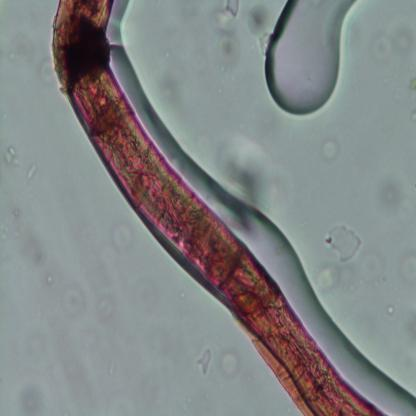Air bubble: (265, 1, 365, 117)
Background material: (213, 133, 274, 214), (0, 204, 35, 270), (210, 16, 245, 66), (326, 222, 362, 262), (6, 32, 40, 66), (376, 176, 403, 216), (246, 0, 271, 43), (109, 219, 135, 255), (396, 248, 416, 289), (220, 347, 243, 380), (373, 30, 394, 66), (314, 257, 336, 291), (94, 287, 115, 319), (70, 286, 88, 317), (320, 139, 340, 162), (196, 348, 212, 375), (38, 60, 56, 84), (3, 144, 20, 168), (225, 0, 243, 17), (25, 161, 39, 182), (407, 72, 416, 92)
Cotton: (51, 0, 388, 414)
